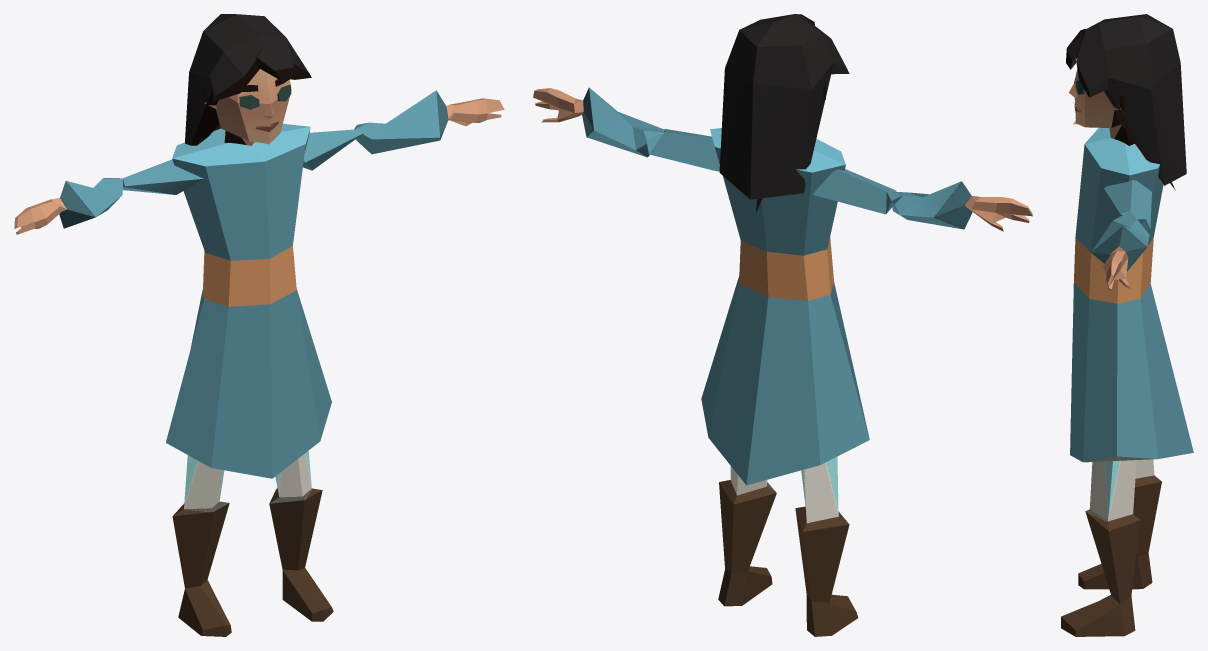
The model's file is personaje-3-mixamo.fbx.
3 renders of one model, left to right at view 1: azimuth 30°, elevation 25°; view 2: azimuth 150°, elevation 25°; view 3: azimuth 270°, elevation 25°, orthographic.
Parts seen in each view (by area): view 1: Object_2; view 2: Object_2; view 3: Object_2.
Boxes of the visible parts, box(x1,y1,x2,y2) form: Object_2: box(14, 14, 504, 636); Object_2: box(533, 14, 1032, 636); Object_2: box(1061, 14, 1193, 636).
Size of the model in its own units: 131 by 150 by 30.66.
Materials: 1 (1 with a texture image).
